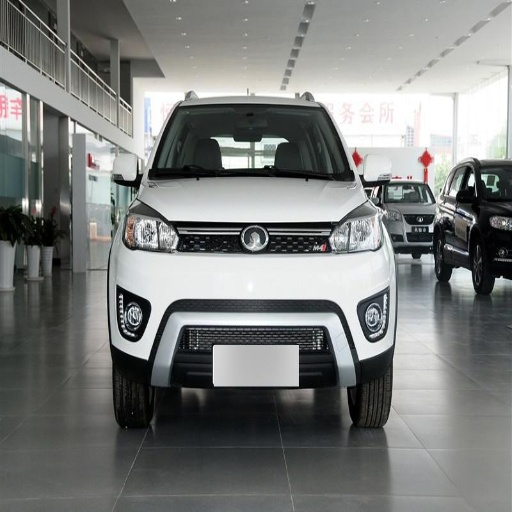front_bumper: (110, 222, 394, 405)
front_right_light: (122, 208, 178, 252)
hood: (138, 179, 369, 222)
